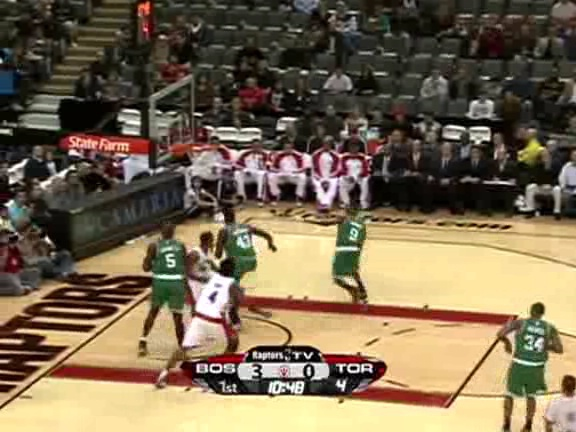person: (335, 205, 369, 286), (334, 205, 368, 286), (336, 205, 370, 286), (335, 204, 369, 285), (335, 206, 369, 287)
target_negative: (34, 96, 472, 188), (505, 131, 560, 282), (497, 278, 564, 386), (501, 139, 552, 239), (48, 381, 540, 387), (534, 343, 540, 405)
